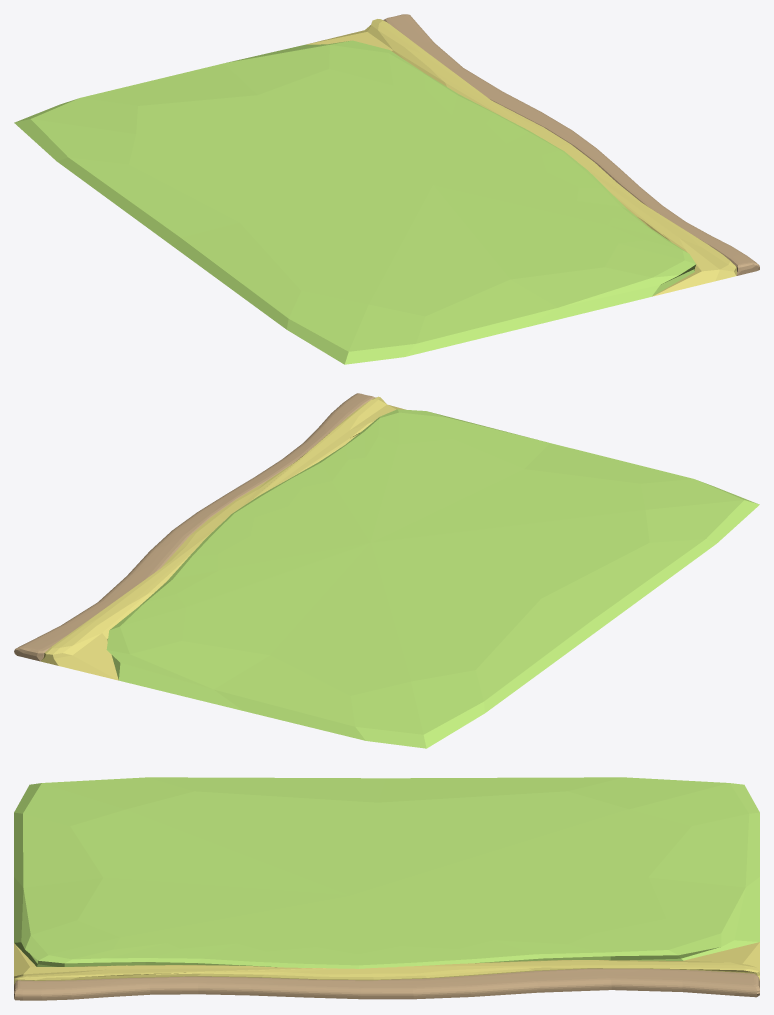
File: river bank.fbx
3 views of the same model, one above another, from view 1: azimuth 30°, elevation 25°; view 2: azimuth 150°, elevation 25°; view 3: azimuth 270°, elevation 25° (orthographic). The views are drawn at different scales.
Visible parts, largest first — view 1: Plane; view 2: Plane; view 3: Plane.
Boxes of the visible parts, x1,y1,x2,y2 form: Plane: (14,14,759,364); Plane: (14,393,759,748); Plane: (14,777,759,1000).
Size of the model in its own units: 1545 by 47.07 by 2215.
